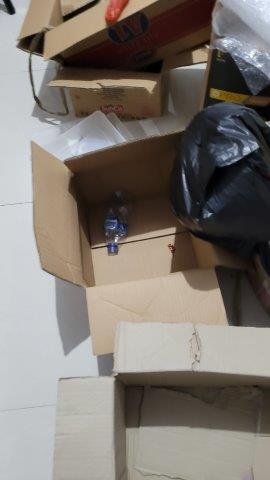botolplastik: (102, 189, 133, 256)
kardus: (29, 137, 237, 330), (56, 324, 270, 480), (24, 1, 212, 60), (48, 70, 174, 117)
plastik: (176, 101, 270, 242)
